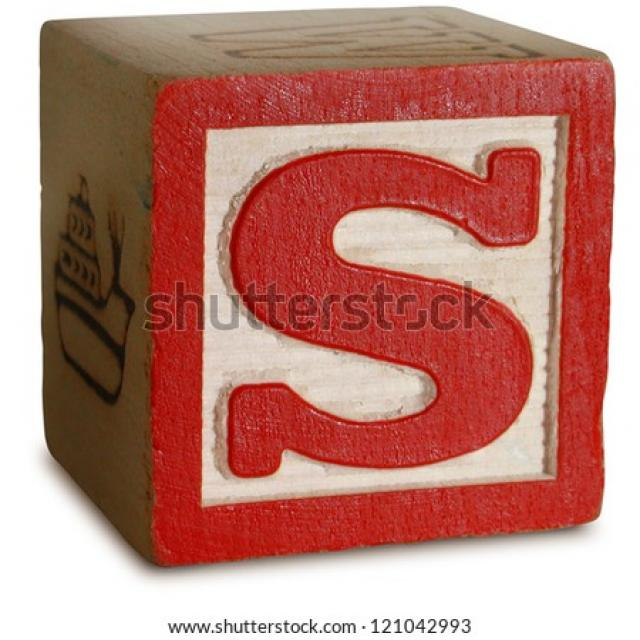S: (225, 134, 552, 480)
